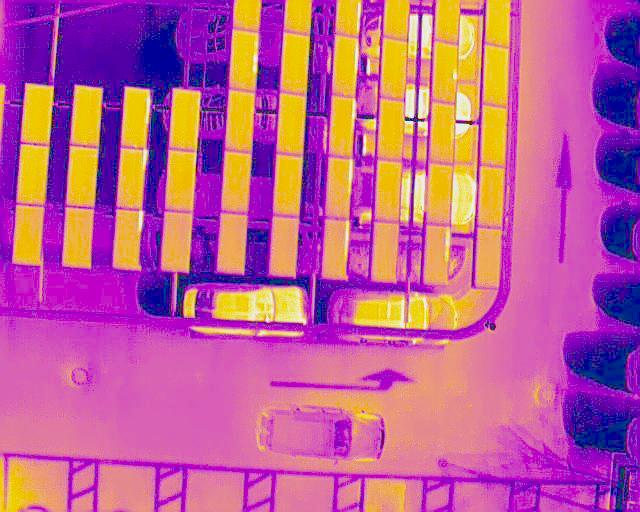Cell: (433, 42, 458, 104)
No-Anomaly: (67, 146, 98, 208), (64, 207, 94, 269), (161, 212, 192, 272), (221, 153, 251, 214), (22, 86, 52, 146), (18, 145, 47, 207), (166, 150, 195, 211), (477, 166, 505, 229), (226, 90, 254, 153), (170, 91, 200, 149), (217, 214, 246, 273), (73, 88, 101, 147), (283, 31, 308, 96), (270, 217, 297, 277), (375, 160, 401, 222), (16, 205, 43, 264), (372, 223, 399, 282), (379, 99, 404, 162), (427, 163, 452, 226), (382, 38, 407, 100), (280, 93, 304, 156), (276, 154, 300, 217), (431, 102, 455, 165), (476, 227, 500, 289), (484, 45, 508, 106), (482, 107, 505, 168)
Unclassified: (117, 148, 147, 209), (113, 209, 143, 269), (229, 31, 258, 92), (122, 88, 150, 148), (423, 225, 450, 284), (327, 157, 353, 218), (331, 97, 357, 157), (324, 219, 349, 279), (334, 37, 358, 97)
